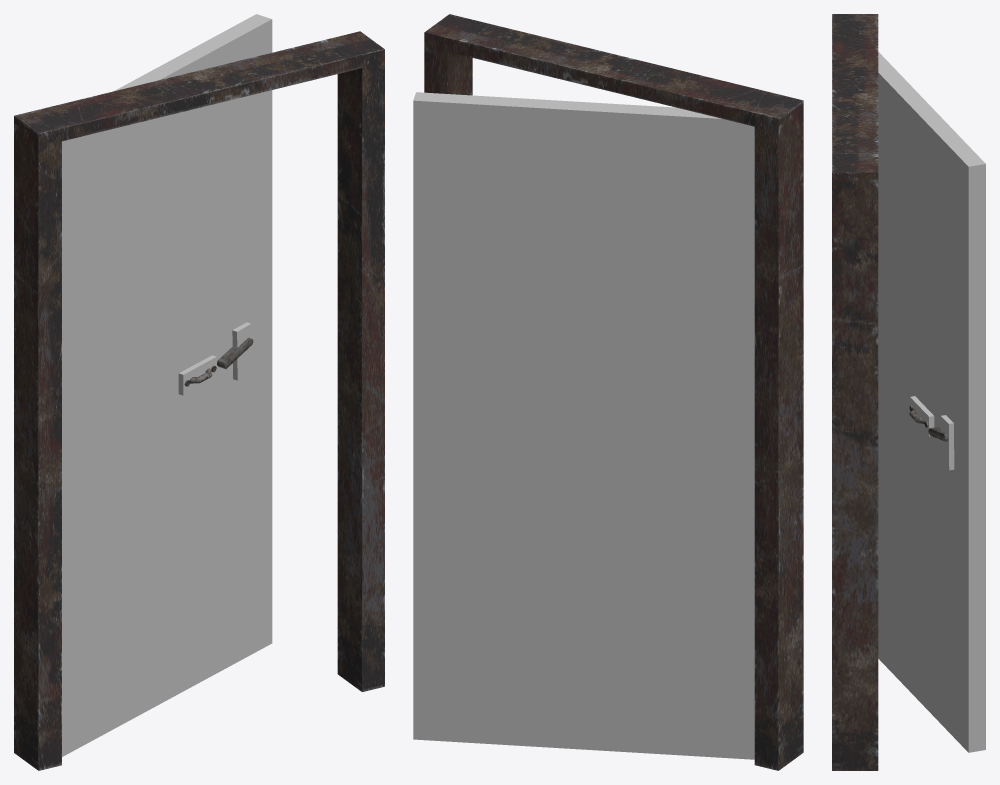
File: Puerta_TERROR.fbx
3 views of the same model, side by side, from view 1: azimuth 30°, elevation 25°; view 2: azimuth 150°, elevation 25°; view 3: azimuth 270°, elevation 25° (orthographic). The views are drawn at different scales.
Visible parts, largest first — view 1: pCube1, pCube5, pCube3, pCube2; view 2: pCube1, pCube5; view 3: pCube1, pCube5, pCube3, pCube2.
Boxes of the visible parts, x1,y1,x2,y2 form: pCube1: (62,14,272,756); pCube5: (14,31,384,770); pCube3: (232,322,251,380); pCube2: (178,355,216,395); pCube1: (413,92,754,759); pCube5: (424,14,803,770); pCube1: (878,52,985,752); pCube5: (832,14,878,770); pCube3: (940,415,954,470); pCube2: (910,396,934,436).
Size of the model in its own units: 2.88 by 5.07 by 1.18.
